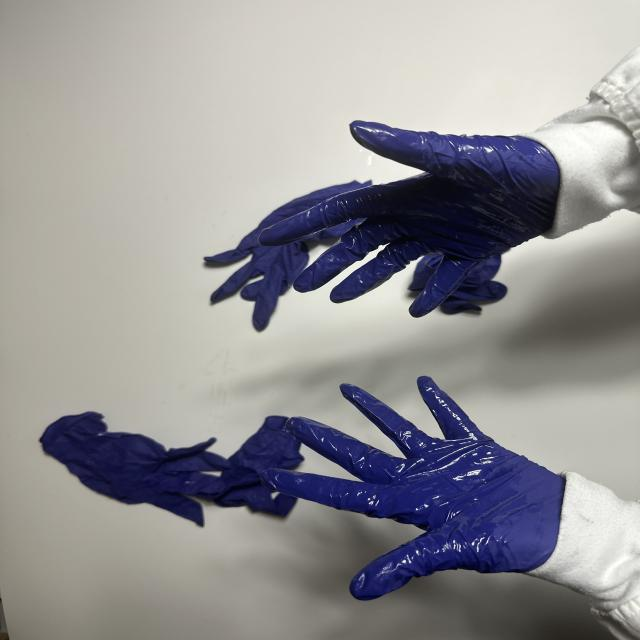gloves_contaminated: (262, 376, 565, 600), (259, 122, 560, 317)
